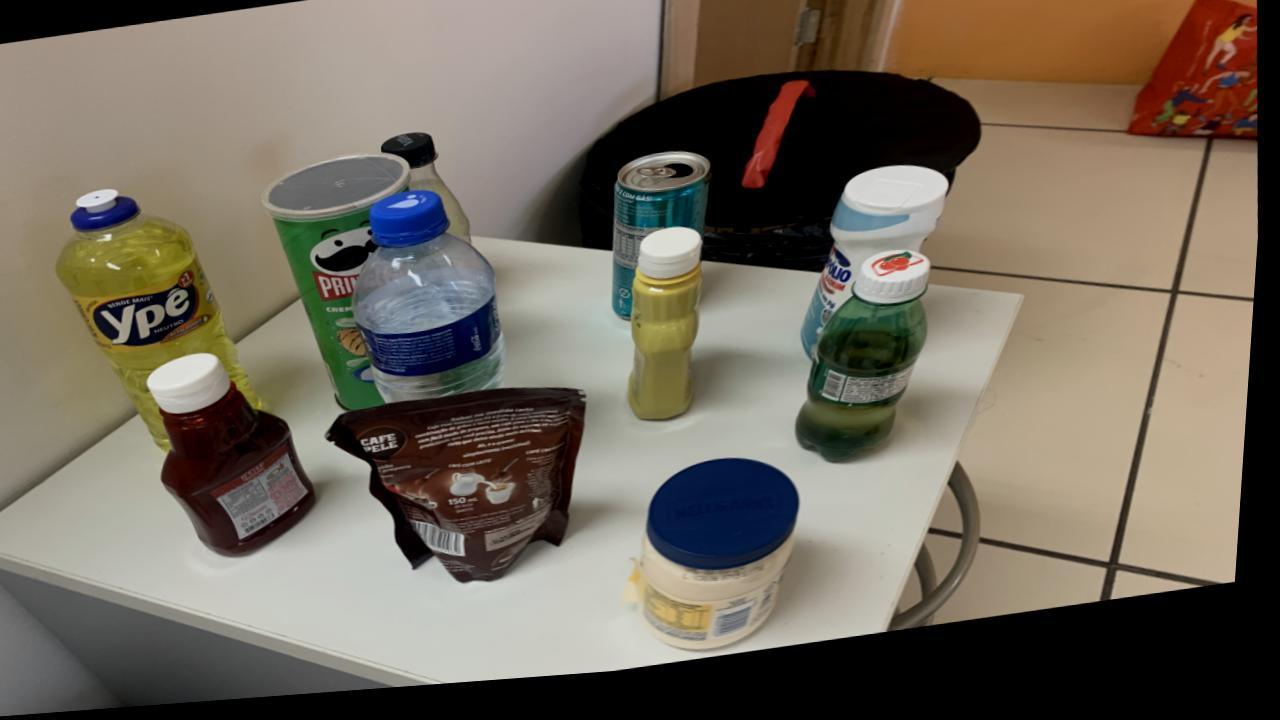Cleaner-Cleanup_Items: (807, 179, 953, 363)
Coffee-Pantry_Items: (335, 396, 590, 590)
Detergent-Cleanup_Items: (61, 190, 266, 452)
Guarana-Drinks: (801, 263, 934, 475)
Ketchup-Pantry_Items: (151, 355, 321, 560)
Mayonnaise-Pantry_Items: (634, 469, 808, 661)
Mustard-Pantry_Items: (635, 237, 706, 430)
Pringles-Snacks: (263, 158, 413, 416)
Soda-Drinks: (382, 138, 474, 249)
Tea-Drinks: (616, 162, 714, 329)
Water_Bottle-Drinks: (357, 196, 509, 409)
